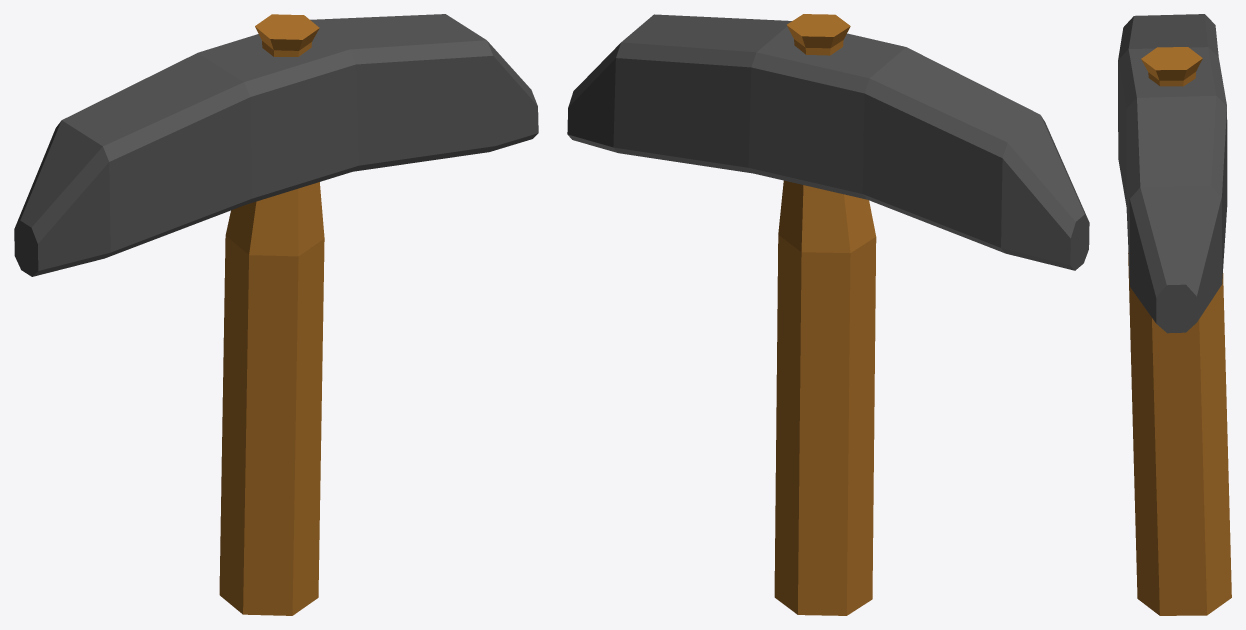
Rendered from Stone Pickaxe.fbx.
The picture shows the model from 3 angles, left to right: view 1: azimuth 30°, elevation 25°; view 2: azimuth 150°, elevation 25°; view 3: azimuth 270°, elevation 25°; orthographic projection. The views are drawn at different scales.
Parts seen in each view (by area): view 1: pickaxe.003; view 2: pickaxe.003; view 3: pickaxe.003.
Part boxes in pixels (<box>): pickaxe.003: <box>14,14,538,615</box>; pickaxe.003: <box>567,14,1089,615</box>; pickaxe.003: <box>1118,14,1231,615</box>.
Size of the model in its own units: 0.4223 by 0.4562 by 0.0861.
